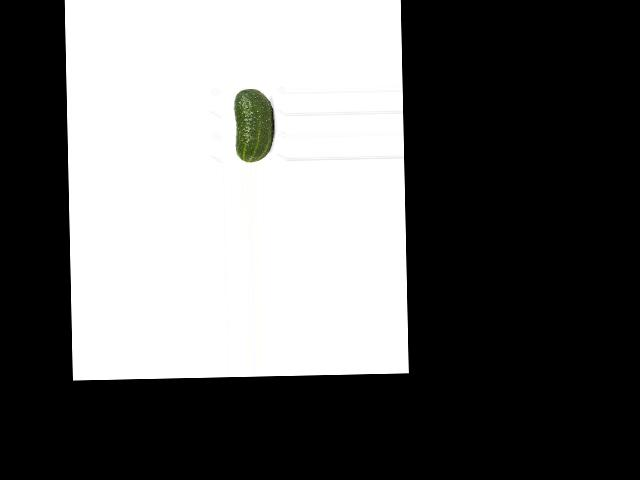cucumber: (234, 88, 275, 162)
